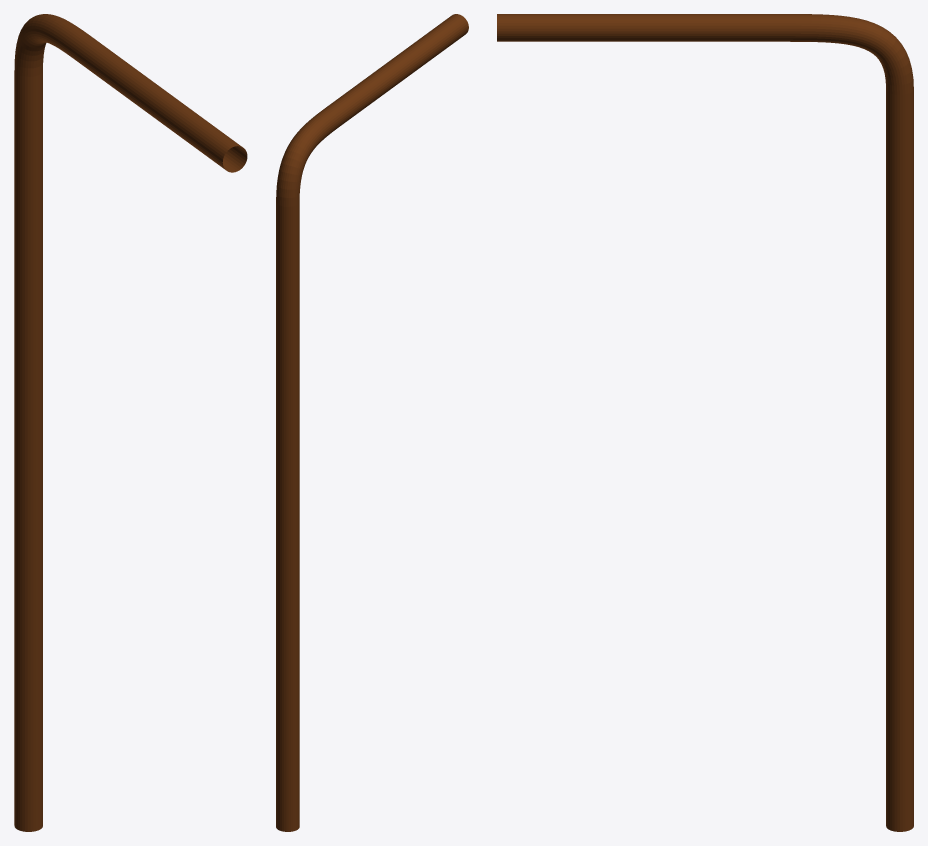
The model's file is Stand.fbx.
3 renders of one model, left to right at view 1: azimuth 30°, elevation 25°; view 2: azimuth 150°, elevation 25°; view 3: azimuth 270°, elevation 25°, orthographic. The views are drawn at different scales.
Visible parts, largest first — view 1: Stand 2; view 2: Stand 2; view 3: Stand 2.
Boxes of the visible parts, bbox=[...] form: Stand 2: bbox=[14, 14, 247, 831]; Stand 2: bbox=[276, 14, 468, 831]; Stand 2: bbox=[497, 14, 913, 831].
Bounding box in the file's own units: 0.1167 × 3.75 × 1.75.
